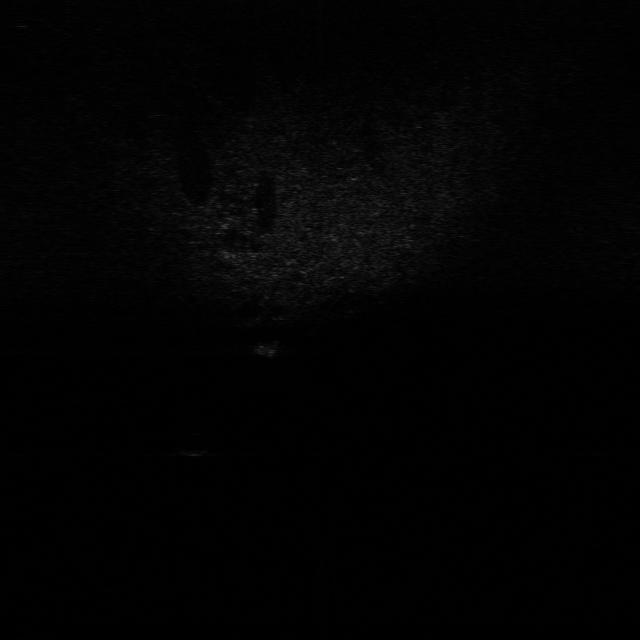ball: (176, 430, 213, 459)
cube: (254, 337, 286, 359)
